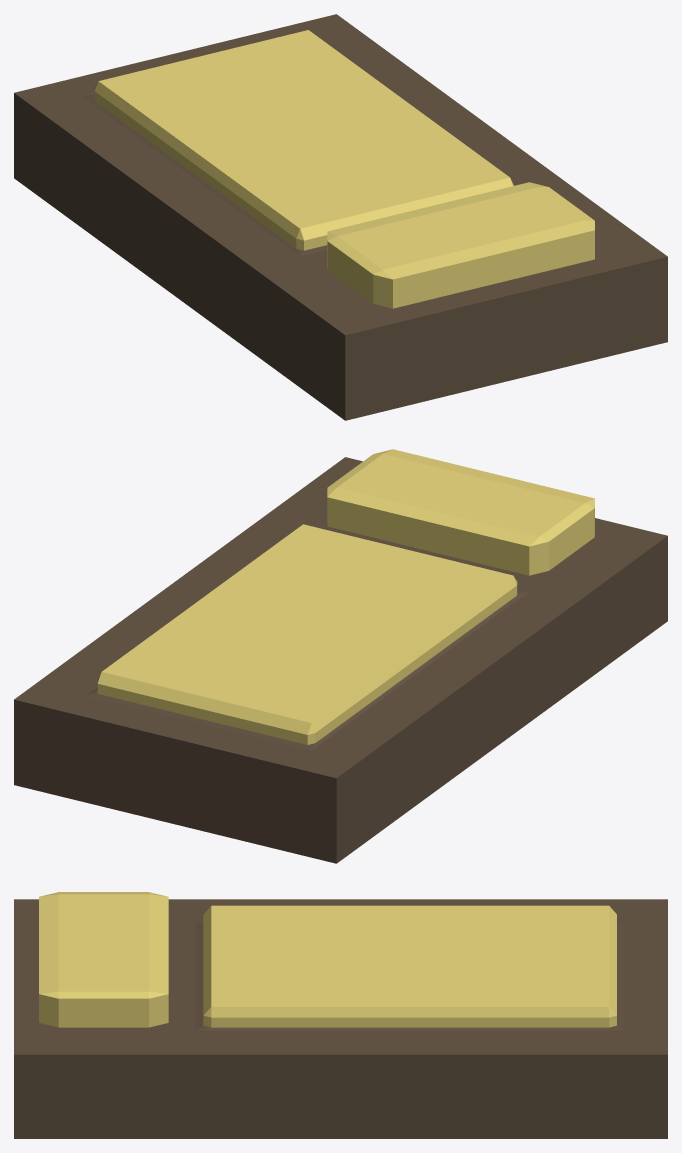
File: BirdHouse_Bed.fbx
3 renders of one model, top to bottom at view 1: azimuth 30°, elevation 25°; view 2: azimuth 150°, elevation 25°; view 3: azimuth 270°, elevation 25°, orthographic.
Visible parts, largest first — view 1: Bett; view 2: Bett; view 3: Bett.
Part boxes in pixels (x1,y1,x2,y2): Bett: [14, 14, 667, 420]; Bett: [14, 449, 667, 863]; Bett: [14, 892, 667, 1138].
Size of the model in its own units: 178 by 63.27 by 317.
